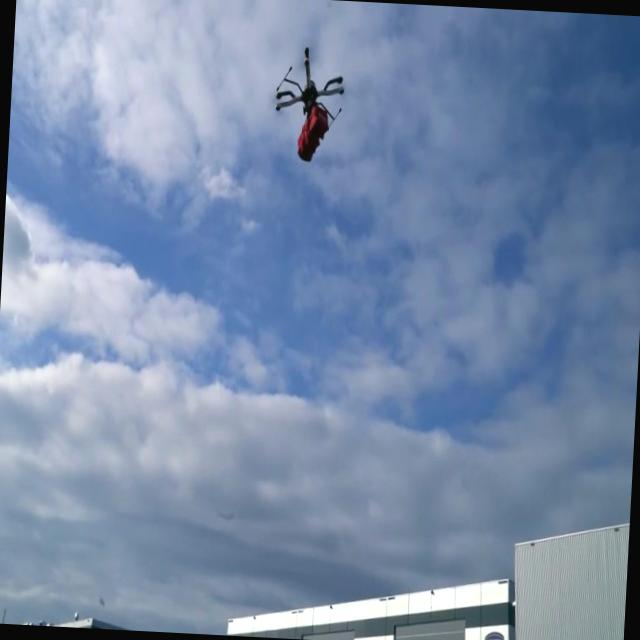drone: (272, 39, 349, 164)
